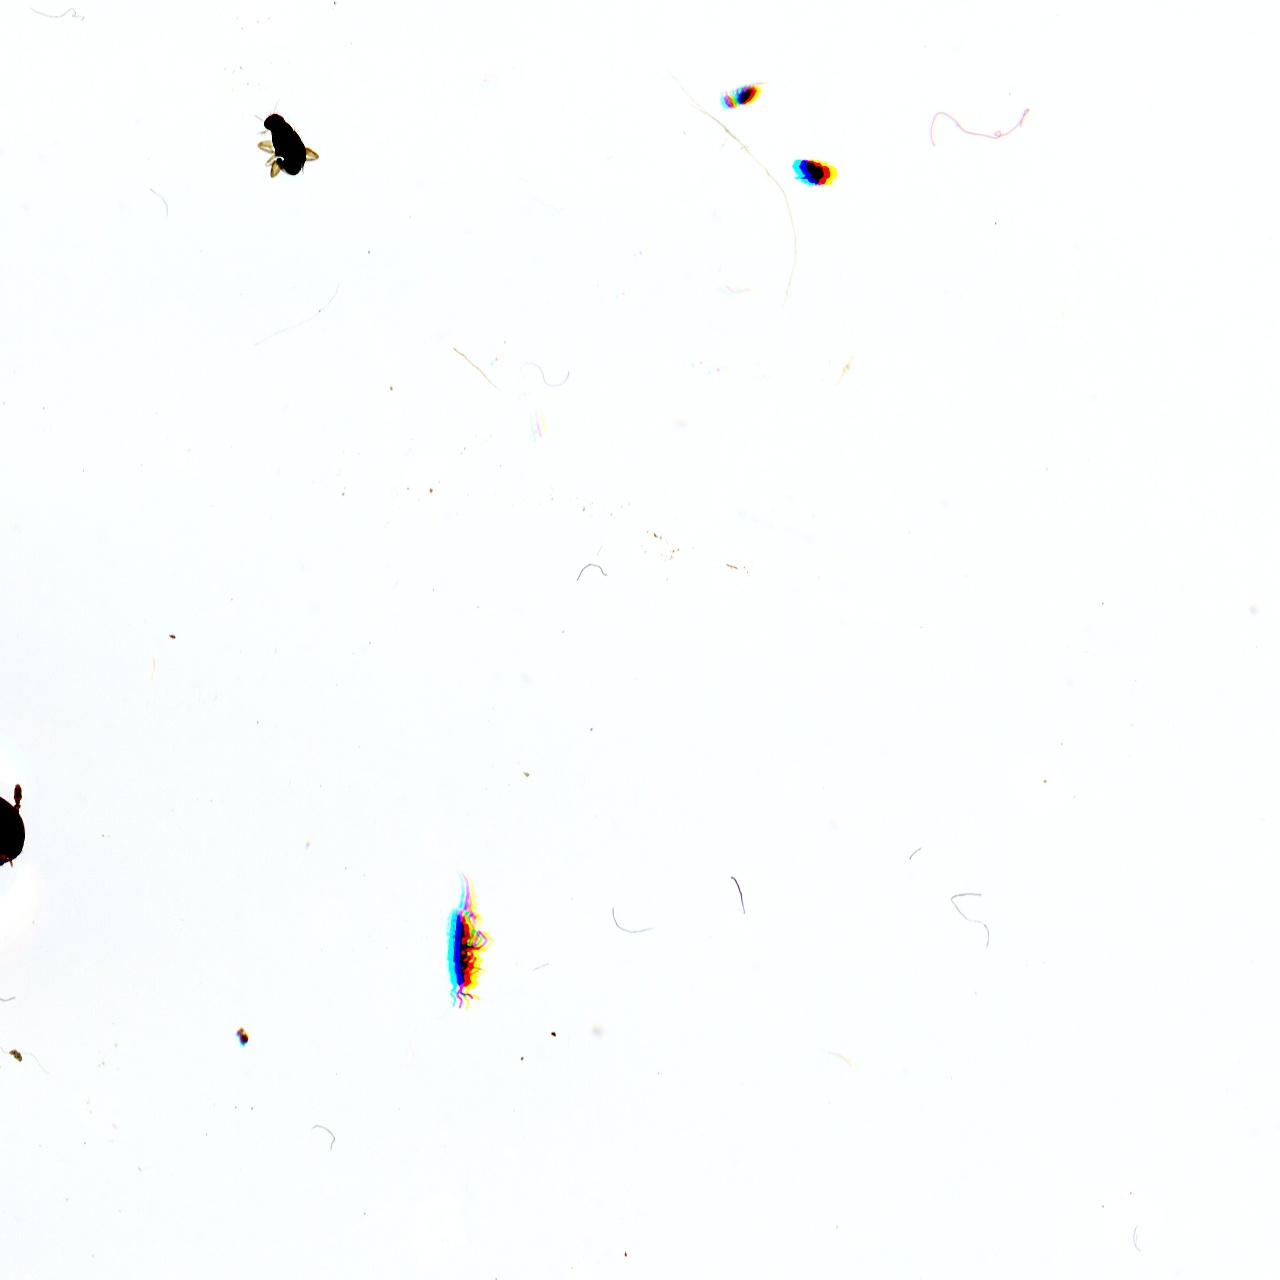arthropod: (440, 856, 493, 1017), (248, 94, 325, 184), (0, 779, 30, 932), (719, 75, 769, 113)
